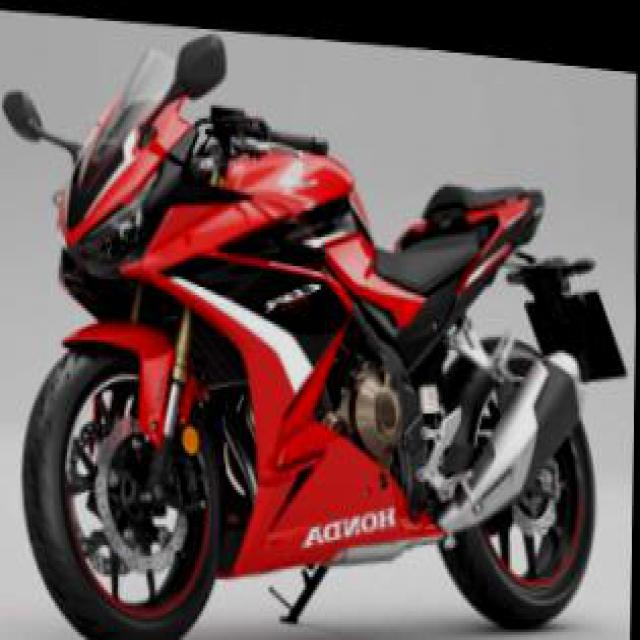CBR500R: (10, 16, 612, 637)
